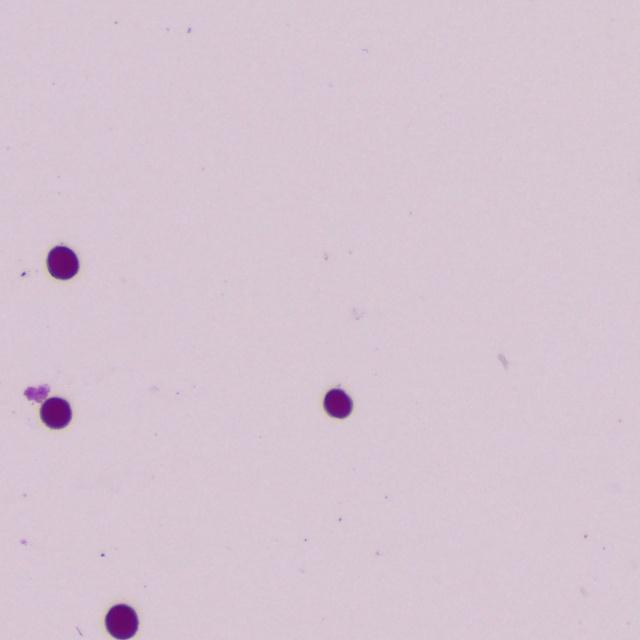viable: (105, 605, 137, 639), (47, 245, 78, 279), (41, 397, 70, 428), (324, 388, 352, 418)
